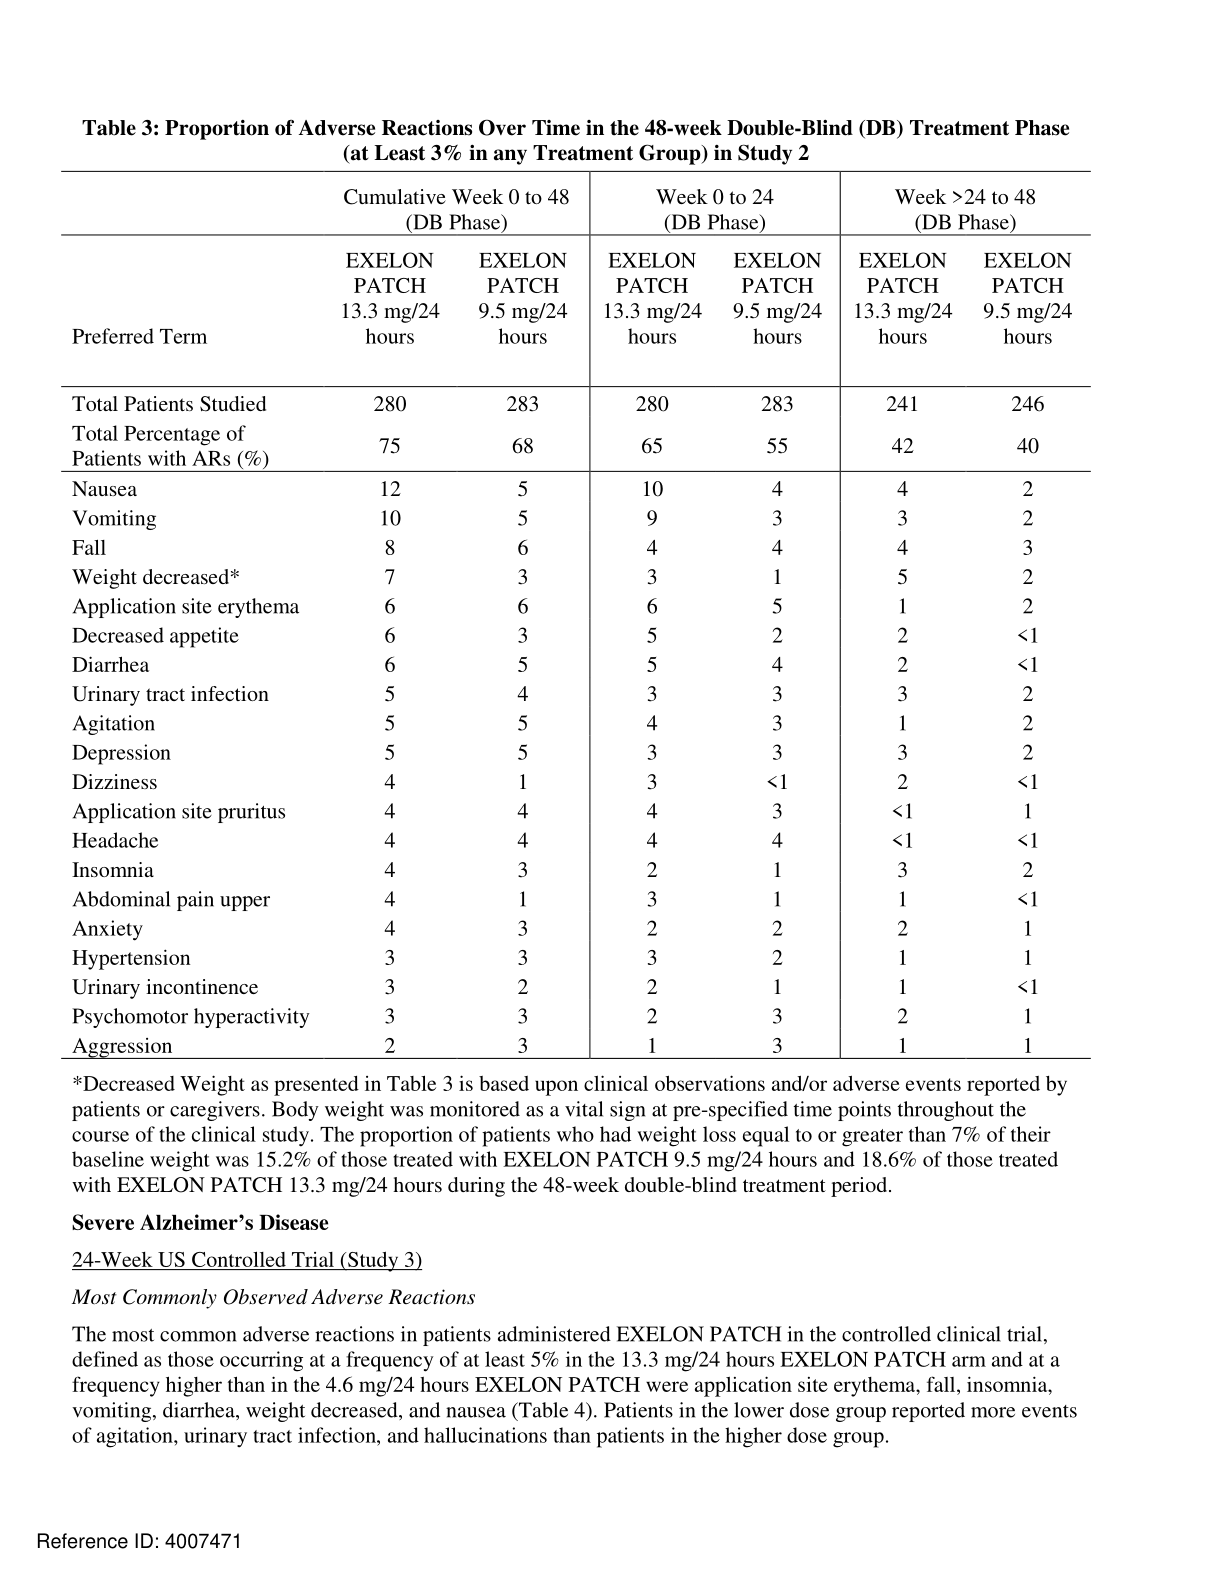partial_lined_merged_cells: (60, 168, 1092, 1059)
